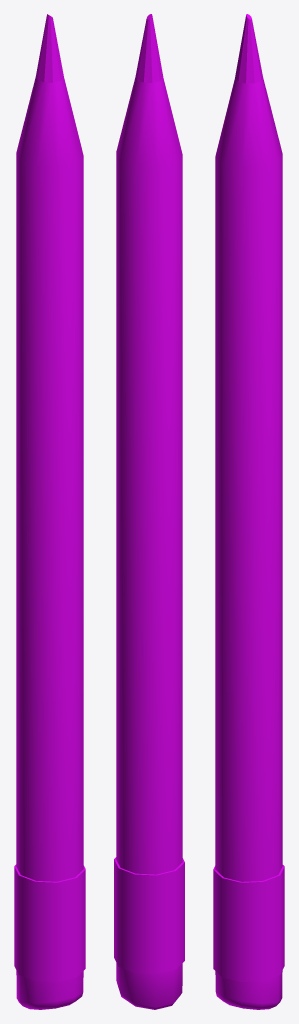
Rendered from Pencil.FBX.
The picture shows the model from 3 angles, left to right: view 1: azimuth 30°, elevation 25°; view 2: azimuth 210°, elevation 25°; view 3: azimuth 330°, elevation 25°; orthographic projection.
Parts seen in each view (by area): view 1: Cylinder078; view 2: Cylinder078; view 3: Cylinder078.
Boxes of the visible parts, x1=… form: Cylinder078: x1=14, y1=14, x2=85, y2=1009; Cylinder078: x1=114, y1=14, x2=184, y2=1009; Cylinder078: x1=213, y1=14, x2=284, y2=1009.
Bounding box in the file's own units: 7.57 × 115 × 7.2.
